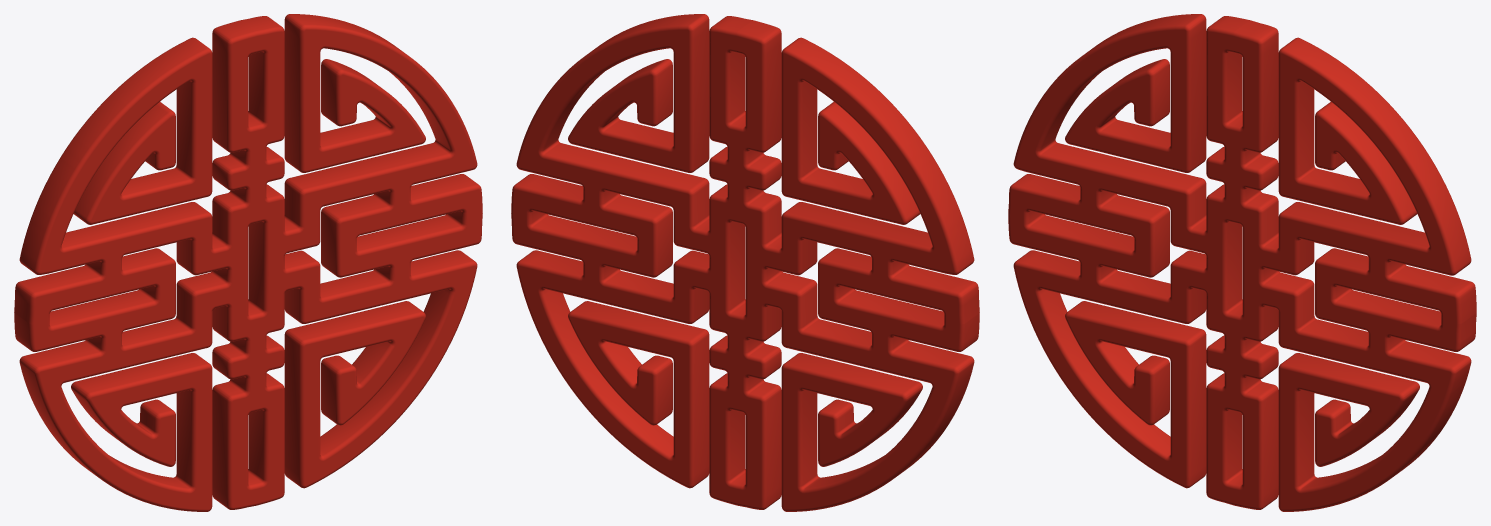
The model's file is shou-circular-ligera.glb.
3 renders of one model, left to right at view 1: azimuth 30°, elevation 25°; view 2: azimuth 150°, elevation 25°; view 3: azimuth 330°, elevation 25°, orthographic.
Visible parts, largest first — view 1: geometry_0; view 2: geometry_0; view 3: geometry_0.
Boxes of the visible parts, x1=… form: geometry_0: x1=14, y1=14, x2=482, y2=511; geometry_0: x1=511, y1=14, x2=979, y2=511; geometry_0: x1=1008, y1=14, x2=1476, y2=511.
Size of the model in its own units: 1 by 1 by 0.07.
